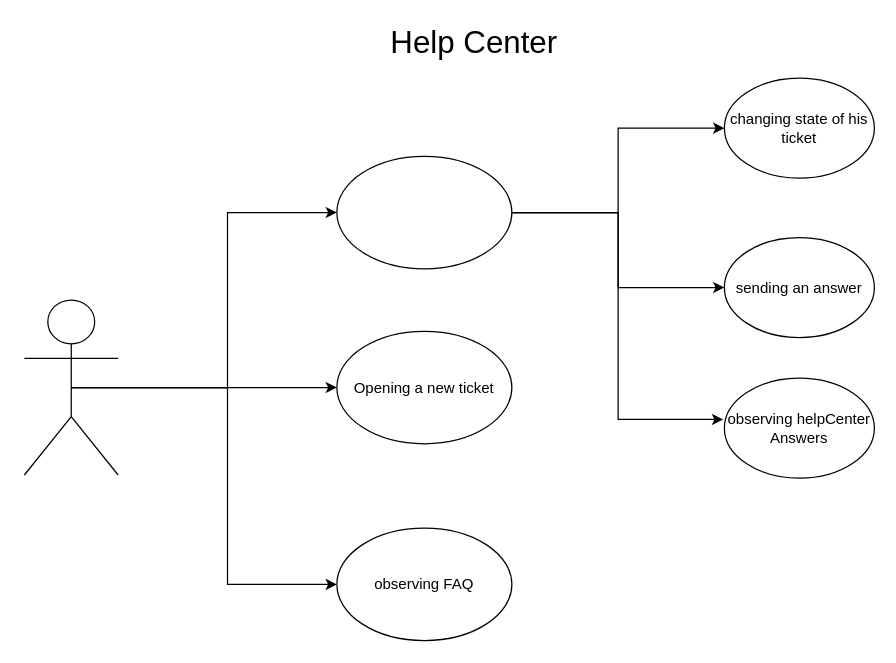
The diagram is 896 pixels wide and 663 high, and some of its shapes have lost their labels. Here are the shapes that lost their labels. From the top down, the centre of each, then its label:
At (424,212): "observing his tickets".
At (70,387): "Logged In user".
